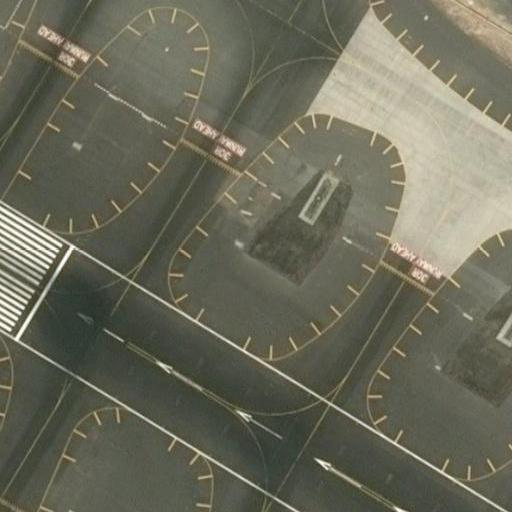Aircraft: (0, 506, 2, 512)
